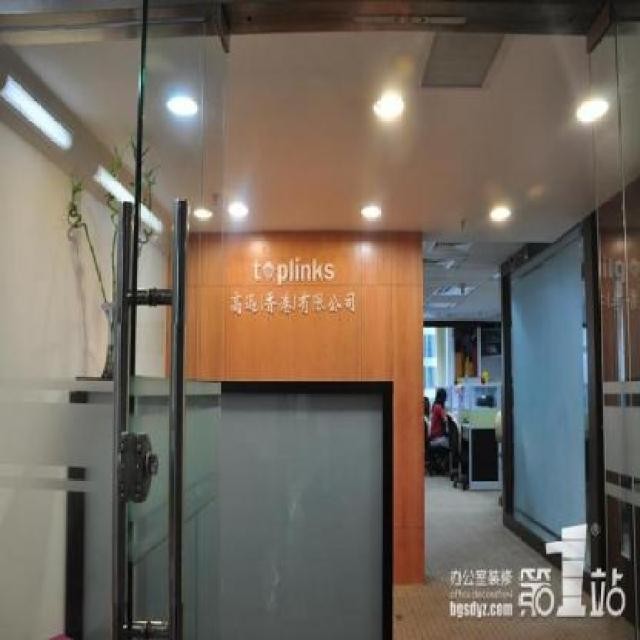frontdesk: (58, 364, 405, 640)
